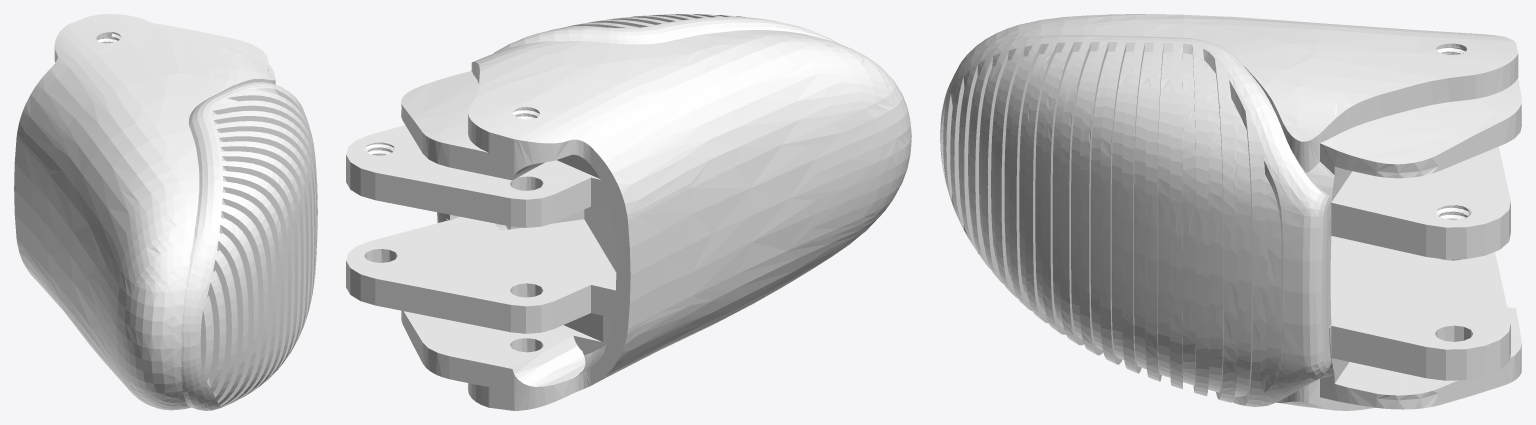
Rendered from rh_thumb_distal_vis.obj.
3 views of the same model, side by side, from view 1: azimuth 30°, elevation 25°; view 2: azimuth 150°, elevation 25°; view 3: azimuth 270°, elevation 25° (orthographic). The views are drawn at different scales.
Parts seen in each view (by area): view 1: rh_thumb_distal; view 2: rh_thumb_distal; view 3: rh_thumb_distal.
Part boxes in pixels (x1,y1,x2,y2): rh_thumb_distal: (14, 14, 317, 410); rh_thumb_distal: (346, 14, 911, 410); rh_thumb_distal: (940, 14, 1521, 410).
Bounding box in the file's own units: 0.0241 × 0.0189 × 0.0302.
1 material, 1 textured.
